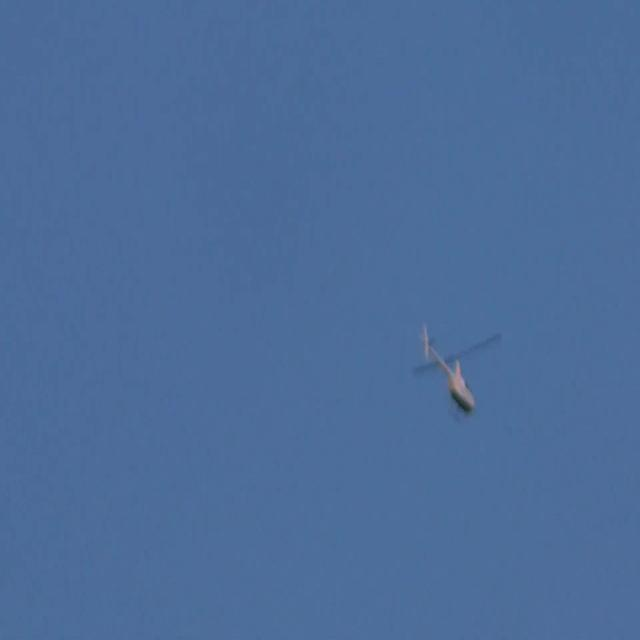CIV_HELO: (421, 324, 476, 424)
